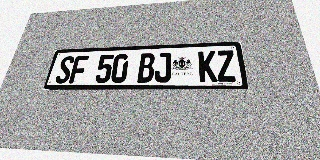0: (110, 54, 129, 83)
5: (95, 54, 114, 83)
B: (137, 53, 155, 83)
F: (69, 55, 89, 83)
J: (154, 52, 171, 83)
K: (198, 51, 218, 82)
S: (54, 56, 75, 84)
Z: (216, 50, 237, 82)
